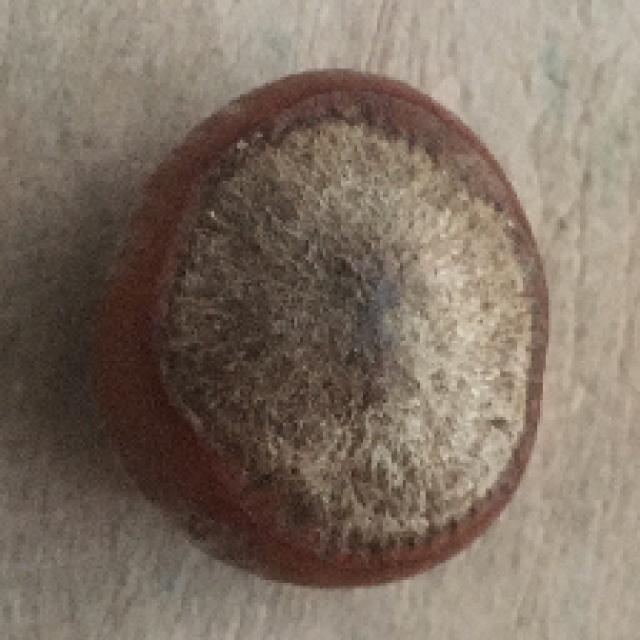qualityHazelnut: (102, 69, 546, 584)
